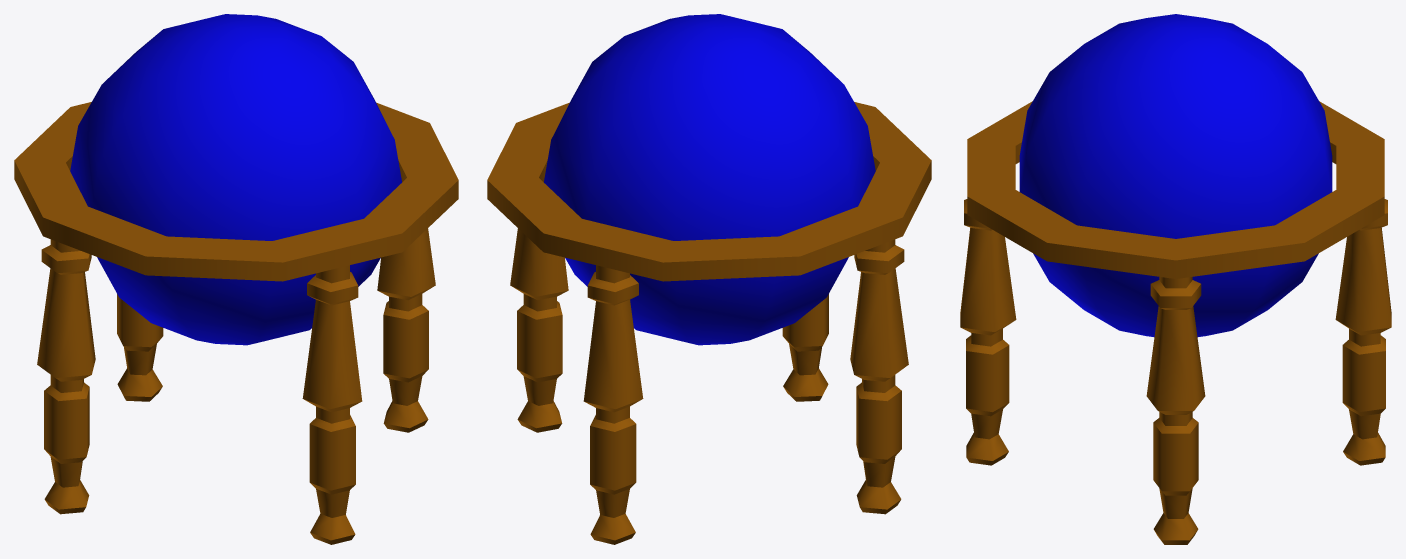
File: globe_low.fbx
The picture shows the model from 3 angles, left to right: view 1: azimuth 30°, elevation 25°; view 2: azimuth 150°, elevation 25°; view 3: azimuth 270°, elevation 25°; orthographic projection.
Visible parts, largest first — view 1: globe_low; view 2: globe_low; view 3: globe_low.
Part boxes in pixels (<box>): globe_low: <box>14,14,458,544</box>; globe_low: <box>487,14,931,544</box>; globe_low: <box>960,14,1391,544</box>.
Size of the model in its own units: 107 by 115 by 105.
